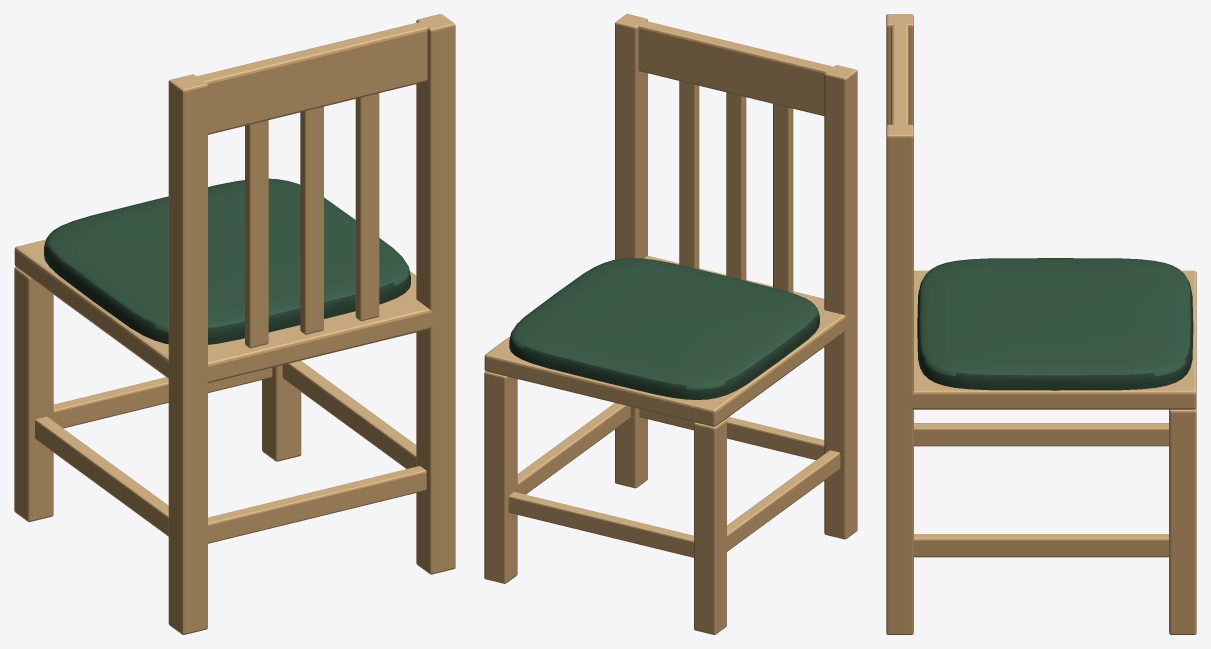
The model's file is dining_chair.obj.
3 renders of one model, left to right at view 1: azimuth 30°, elevation 25°; view 2: azimuth 150°, elevation 25°; view 3: azimuth 270°, elevation 25°, orthographic. The views are drawn at different scales.
Visible parts, largest first — view 1: dining_chair; view 2: dining_chair; view 3: dining_chair.
Part boxes in pixels (x1,y1,x2,y2): dining_chair: (14,14,455,634); dining_chair: (484,14,857,634); dining_chair: (886,14,1196,634).
Bounding box in the file's own units: 42 × 80 × 45.
Materials: 1 (1 with a texture image).
